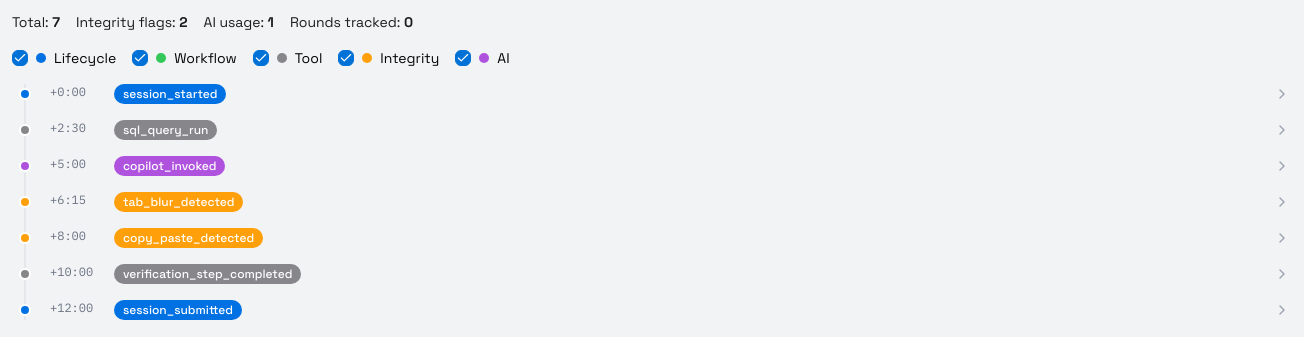
Test: EventTimeline › filters events by category when checkboxes are toggled
Click the checkbox named "integrity": (346, 58) [338,50,354,66]
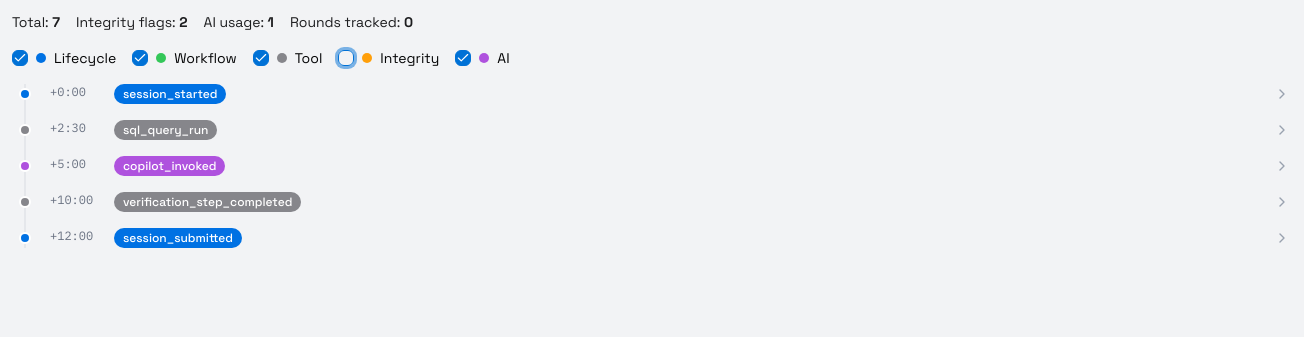
Now the number of elements with test id "event-badge" is 5, box [114,84,226,104]; [114,120,217,140]; [114,156,225,176]; [114,192,301,212]; [114,228,242,248]
// Re-check "Integrity"
Click the checkbox named "integrity": (346, 58) [338,50,354,66]
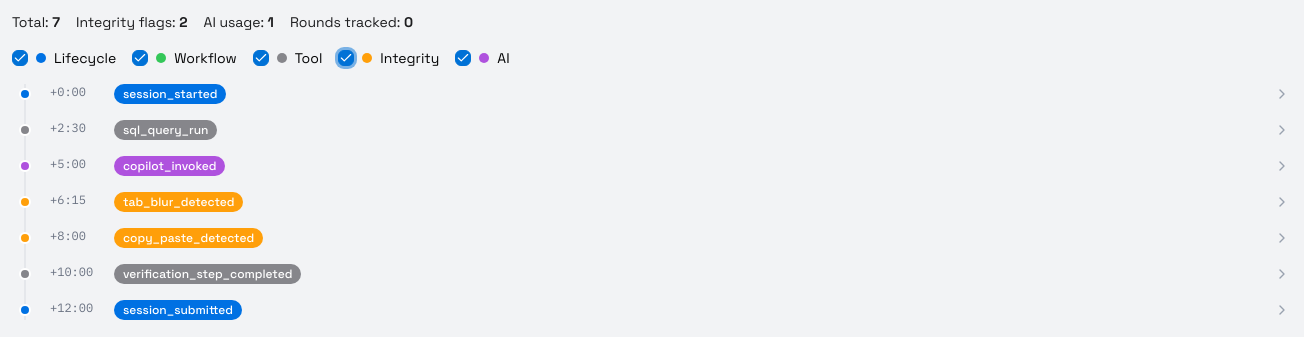
Now the number of elements with test id "event-badge" is 7
// Uncheck "AI" category
Click the checkbox named "ai": (463, 58) [455,50,471,66]
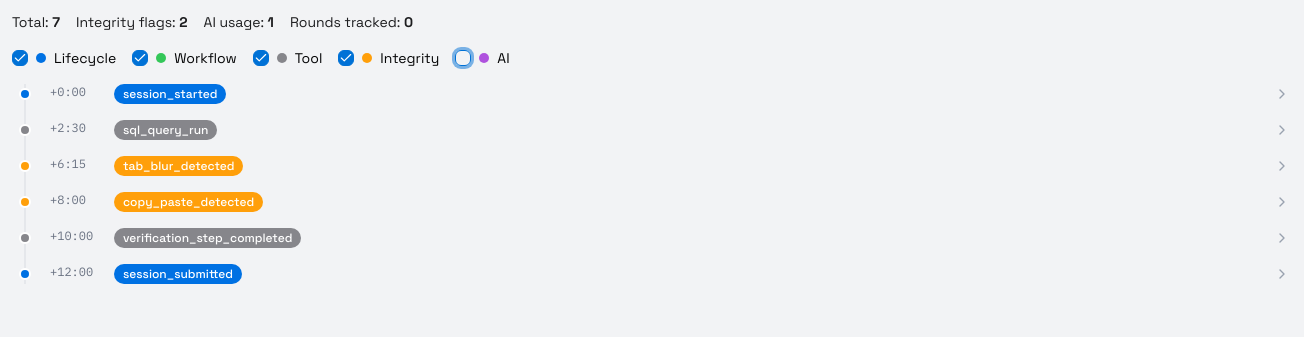
Now the number of elements with test id "event-badge" is 6, box [114,84,226,104]; [114,120,217,140]; [114,156,243,176]; [114,192,263,212]; [114,228,301,248]; [114,264,242,284]
